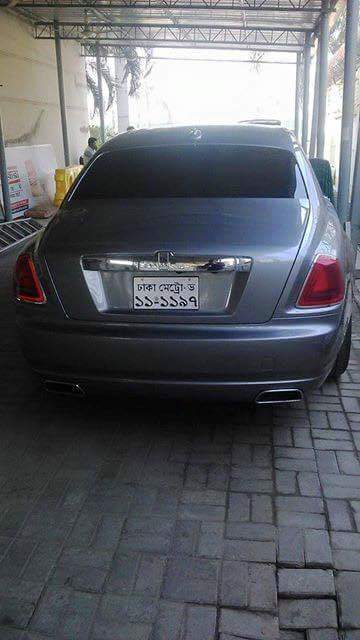registration_plate: (132, 276, 199, 312)
